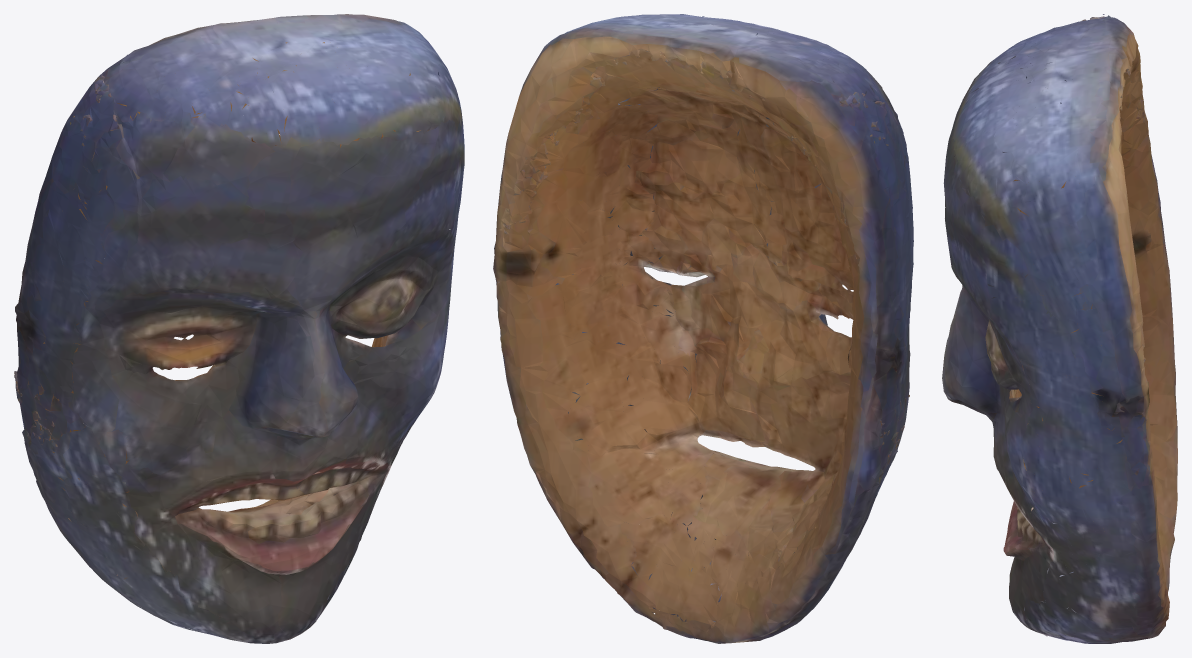
The model's file is sf-sanni-mask.glb.
3 renders of one model, left to right at view 1: azimuth 30°, elevation 25°; view 2: azimuth 150°, elevation 25°; view 3: azimuth 270°, elevation 25°, orthographic. The views are drawn at different scales.
Parts seen in each view (by area): view 1: Object_3, Object_2; view 2: Object_2, Object_3; view 3: Object_2, Object_3.
Part boxes in pixels (left/top/right/bottom): Object_3: left=17, top=28, right=464, bottom=643; Object_2: left=14, top=14, right=464, bottom=642; Object_2: left=493, top=14, right=913, bottom=643; Object_3: left=507, top=14, right=913, bottom=643; Object_2: left=952, top=15, right=1177, bottom=643; Object_3: left=942, top=14, right=1157, bottom=643.
Bounding box in the file's own units: 0.2034 × 0.2798 × 0.1041.
1 material, 1 textured.
